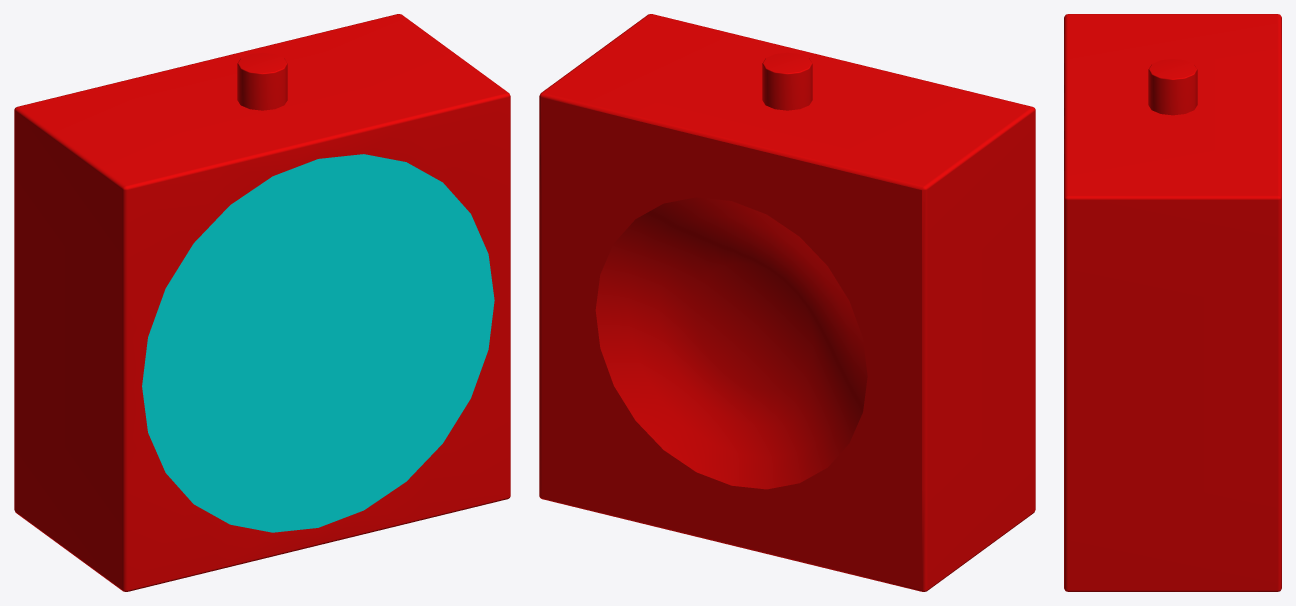
File: thorkea_alarm_clocks_grp.fbx
3 renders of one model, left to right at view 1: azimuth 30°, elevation 25°; view 2: azimuth 150°, elevation 25°; view 3: azimuth 270°, elevation 25°, orthographic. The views are drawn at different scales.
Parts seen in each view (by area): view 1: thorkea_alarm_clock_bajk; view 2: thorkea_alarm_clock_bajk; view 3: thorkea_alarm_clock_bajk.
Boxes of the visible parts, left/top/right/bottom form: thorkea_alarm_clock_bajk: left=14, top=14, right=510, bottom=591; thorkea_alarm_clock_bajk: left=539, top=14, right=1035, bottom=591; thorkea_alarm_clock_bajk: left=1064, top=14, right=1281, bottom=591.
Bounding box in the file's own units: 9.97 × 10.88 × 4.97.
